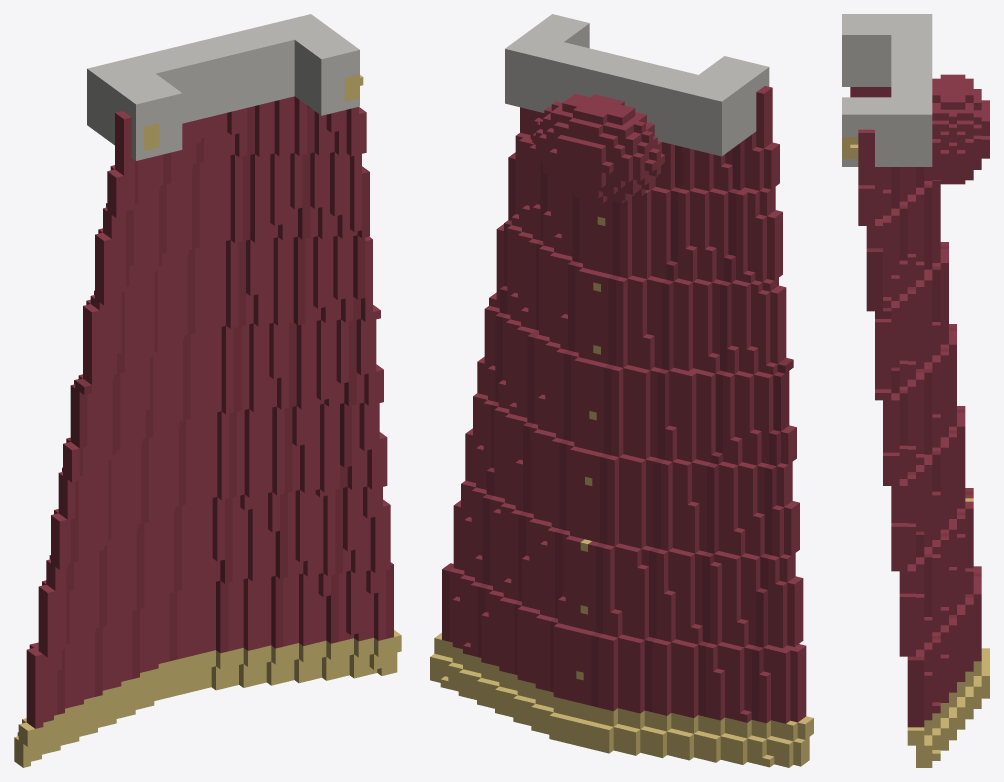
File: leather_epic_cloak.glb
The picture shows the model from 3 angles, left to right: view 1: azimuth 30°, elevation 25°; view 2: azimuth 150°, elevation 25°; view 3: azimuth 270°, elevation 25°; orthographic projection. The views are drawn at different scales.
Parts seen in each view (by area): view 1: leather_epic_cloak; view 2: leather_epic_cloak; view 3: leather_epic_cloak.
Part boxes in pixels (left/top/right/bottom): leather_epic_cloak: left=14, top=14, right=401, bottom=767; leather_epic_cloak: left=430, top=14, right=813, bottom=767; leather_epic_cloak: left=842, top=14, right=989, bottom=767.
Bounding box in the file's own units: 0.588 × 0.996 × 0.216.
